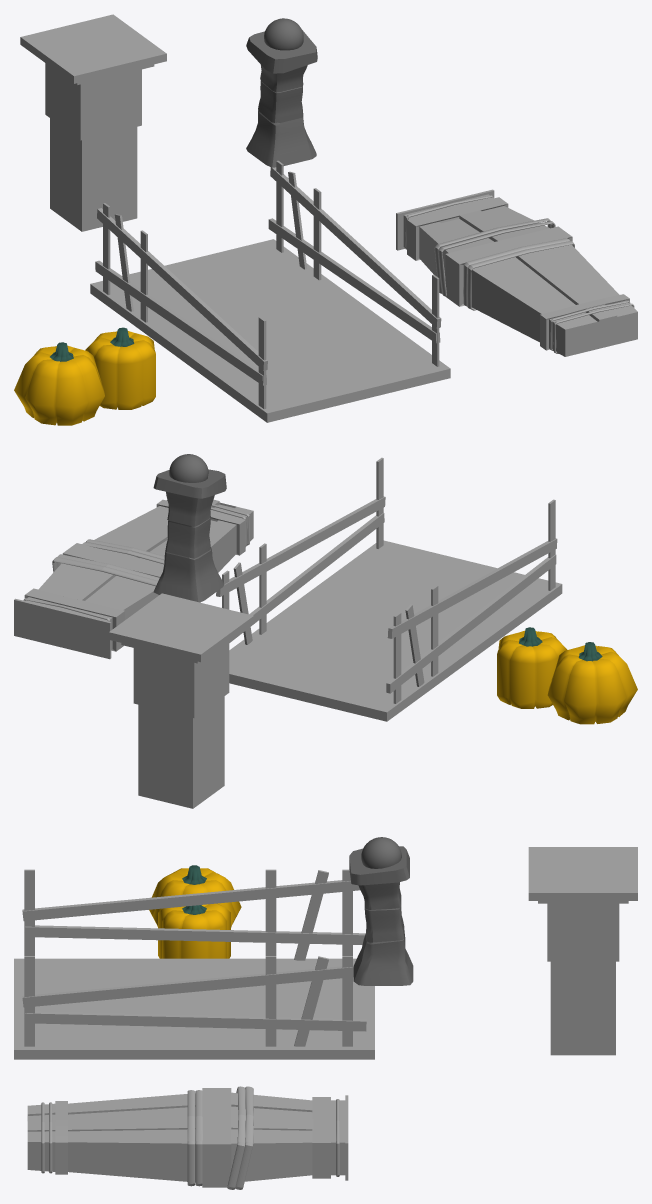
File: Objects for nina.fbx
3 views of the same model, one above another, from view 1: azimuth 30°, elevation 25°; view 2: azimuth 150°, elevation 25°; view 3: azimuth 270°, elevation 25° (orthographic). The views are drawn at different scales.
Visible parts, largest first — view 1: pCube14, coffin, pCube1, pCube2, pCylinder2, PUMKIN:pCylinder1, loftedSurface16, loftedSurface14, loftedSurface13, loftedSurface11; view 2: pCube14, pCube1, coffin, pCube2, pCylinder2, PUMKIN:pCylinder1, loftedSurface13; view 3: pCube14, coffin, pCube1, pCube2, PUMKIN:pCylinder1, pCylinder2, loftedSurface13, loftedSurface14, loftedSurface11, loftedSurface16.
Part boxes in pixels (left/top/right/bottom): pCube14: left=90, top=160, right=450, bottom=422; coffin: left=396, top=189, right=637, bottom=356; pCube1: left=20, top=14, right=166, bottom=231; pCube2: left=246, top=18, right=317, bottom=167; pCylinder2: left=14, top=342, right=104, bottom=425; PUMKIN:pCylinder1: left=85, top=327, right=155, bottom=409; loftedSurface16: left=467, top=241, right=574, bottom=310; loftedSurface14: left=438, top=221, right=555, bottom=296; loftedSurface13: left=434, top=218, right=551, bottom=294; loftedSurface11: left=463, top=238, right=569, bottom=306; pCube14: left=216, top=457, right=562, bottom=721; pCube1: left=109, top=593, right=253, bottom=808; coffin: left=14, top=499, right=253, bottom=659; pCube2: left=153, top=454, right=226, bottom=602; pCylinder2: left=547, top=642, right=637, bottom=724; PUMKIN:pCylinder1: left=497, top=627, right=567, bottom=708; loftedSurface13: left=52, top=557, right=158, bottom=586; pCube14: left=14, top=869, right=374, bottom=1059; coffin: left=27, top=1088, right=348, bottom=1187; pCube1: left=528, top=847, right=637, bottom=1055; pCube2: left=349, top=837, right=413, bottom=985; PUMKIN:pCylinder1: left=158, top=903, right=230, bottom=958; pCylinder2: left=149, top=865, right=241, bottom=927; loftedSurface13: left=235, top=1086, right=253, bottom=1189; loftedSurface14: left=227, top=1086, right=245, bottom=1189; loftedSurface11: left=195, top=1090, right=202, bottom=1186; loftedSurface16: left=187, top=1090, right=194, bottom=1186.
Bounding box in the file's own units: 17.43 × 7.46 × 16.67.
